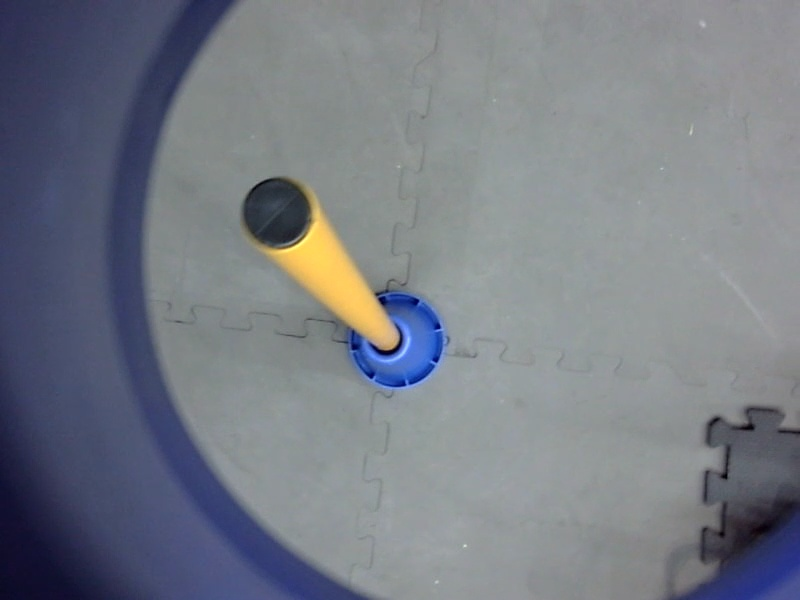tip: (231, 169, 322, 258)
